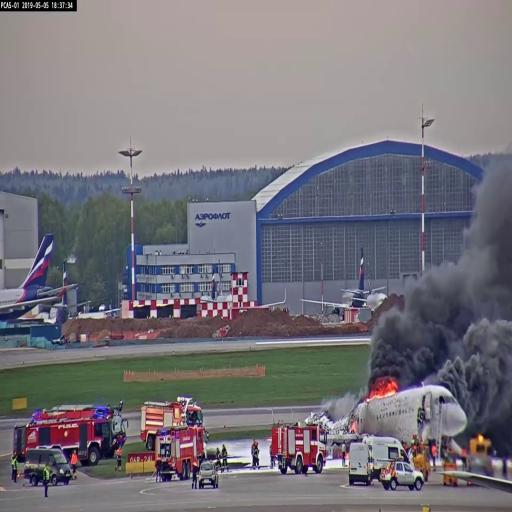fire: (369, 376, 395, 403)
smoke: (441, 328, 512, 389), (372, 322, 435, 384)
